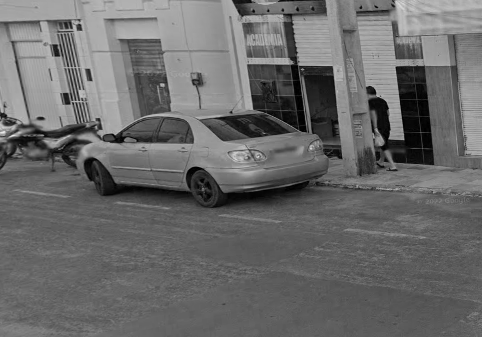car: (76, 94, 333, 211)
